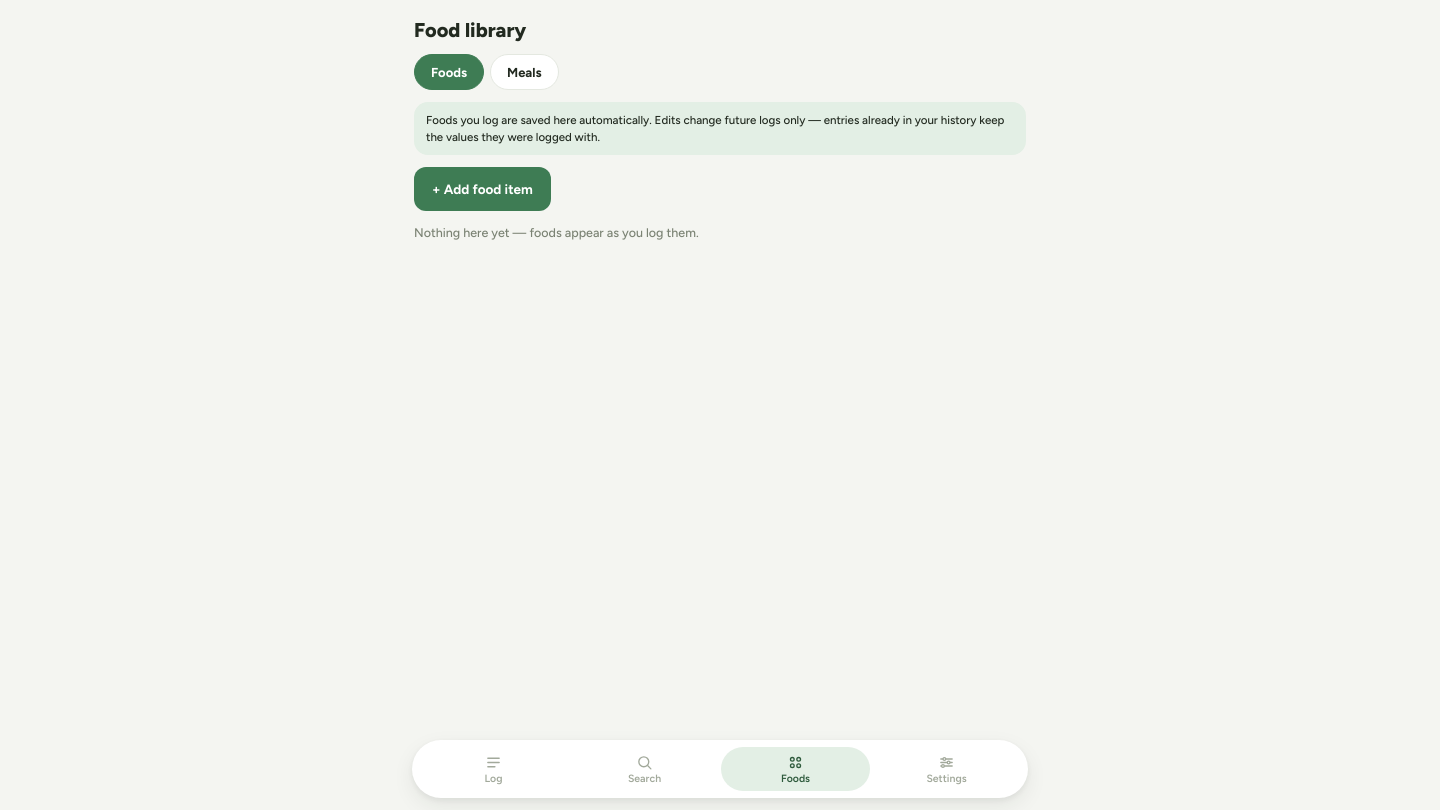
Test: Food library screen › rejects a duplicate name instead of creating a second food
Click the button "+ Add food item" at (482, 189), box left=414, top=167, right=551, bottom=211
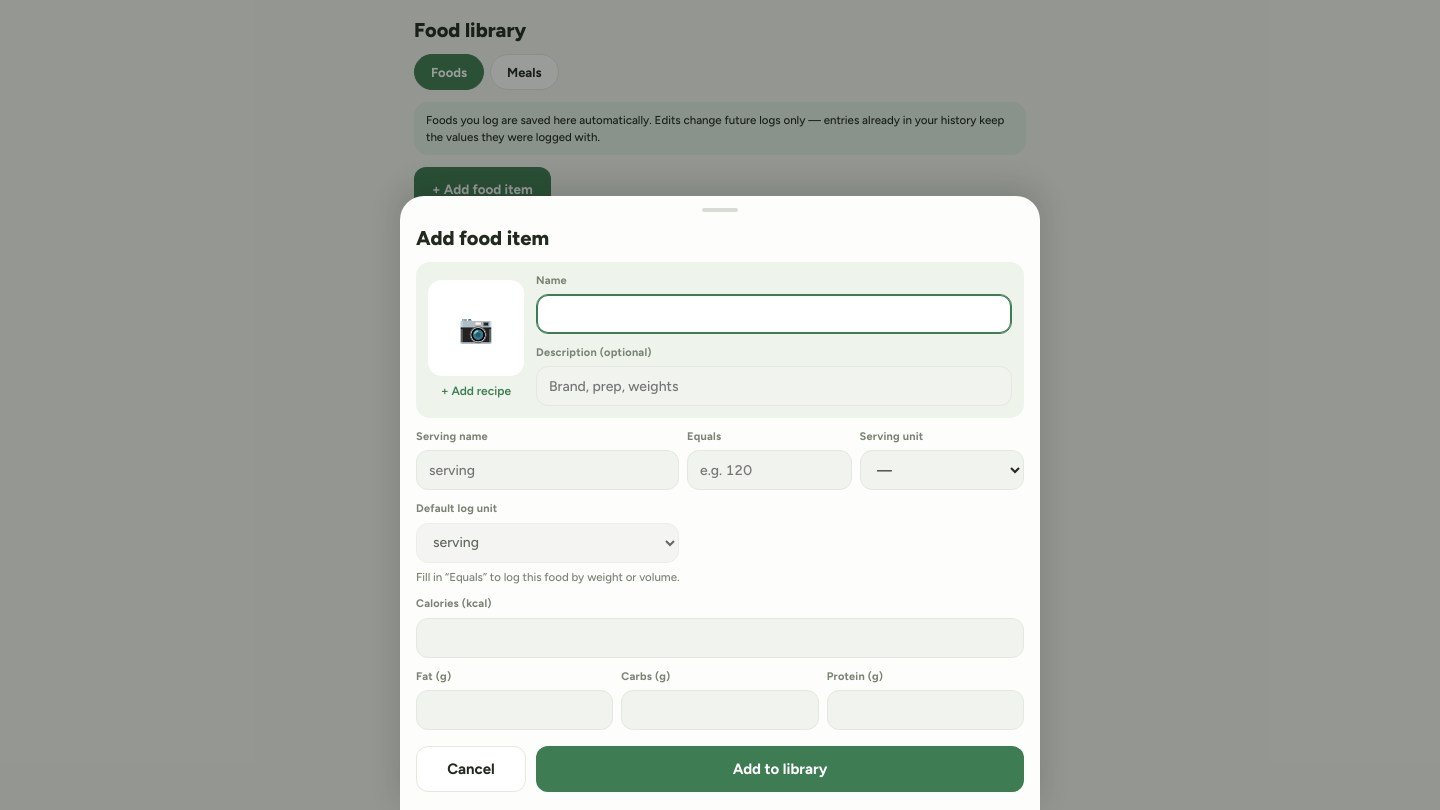
Type "Rice" into the field labelled "Name" at (774, 314), box left=536, top=294, right=1012, bottom=334
Type "200" into the field labelled "Calories (kcal)" at (720, 638), box left=416, top=618, right=1024, bottom=658
Click the button "Add to library" at (780, 769), box left=536, top=746, right=1024, bottom=792
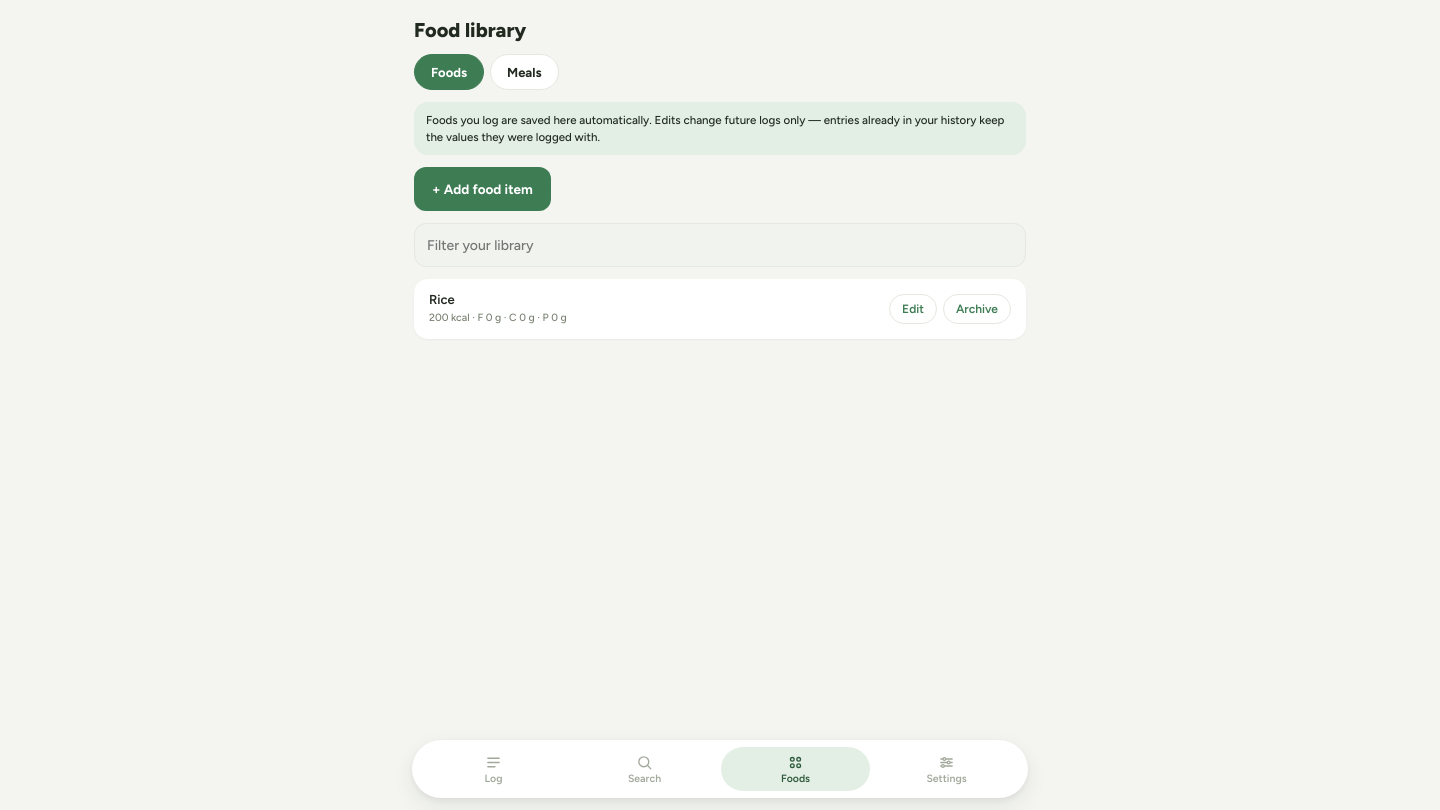
Click the button "+ Add food item" at (482, 189), box left=414, top=167, right=551, bottom=211
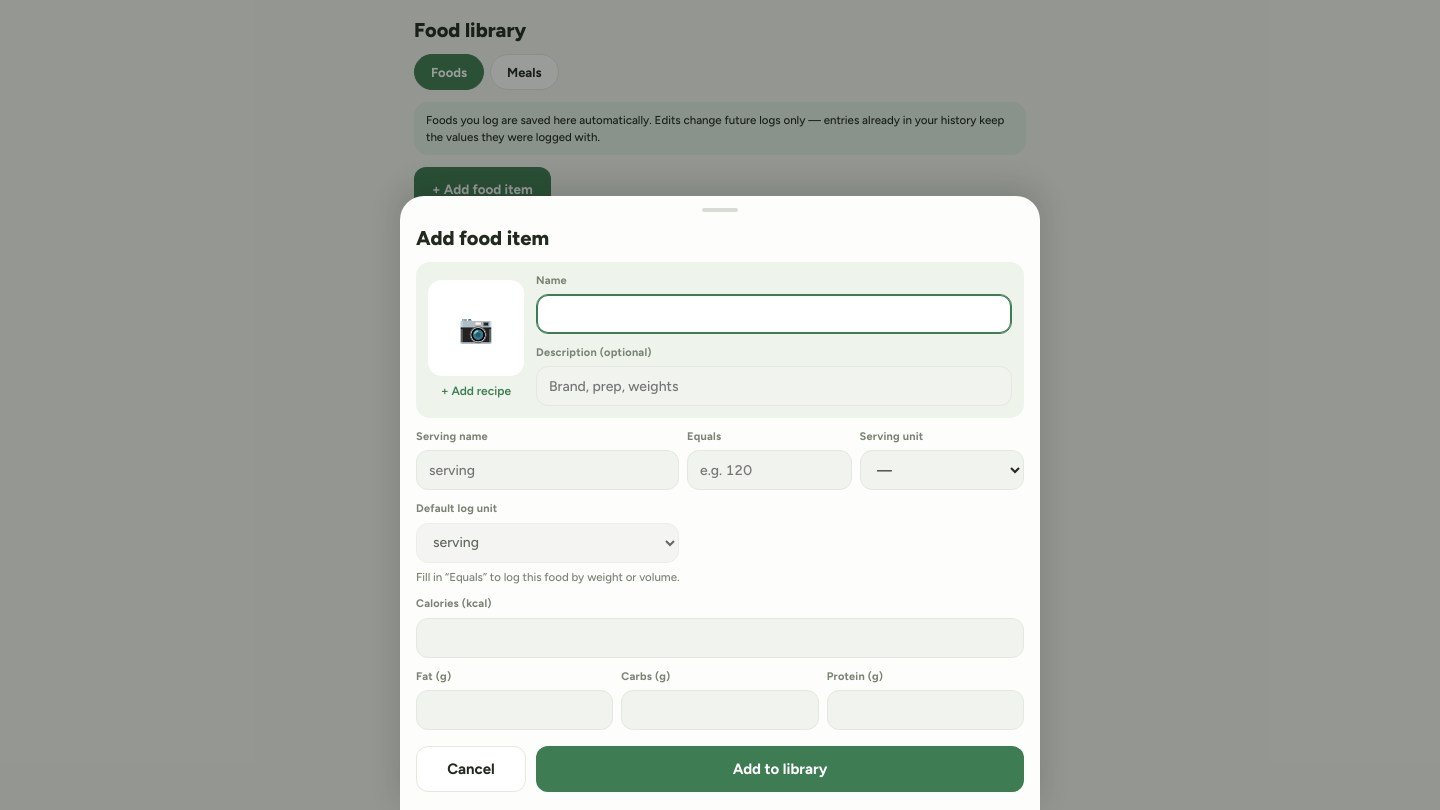
Type " rice " into the field labelled "Name" at (774, 314), box left=536, top=294, right=1012, bottom=334
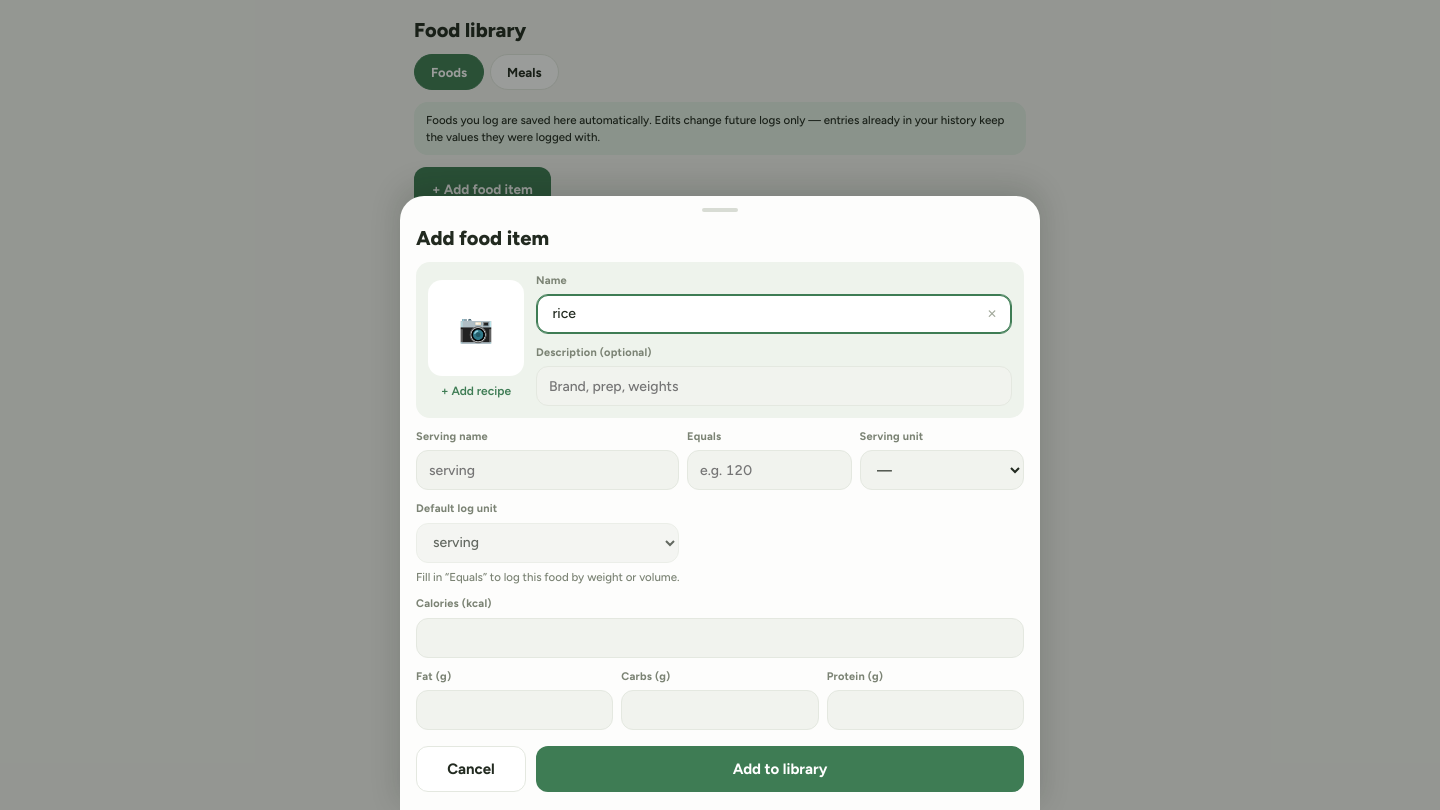
Type "210" into the field labelled "Calories (kcal)" at (720, 638), box left=416, top=618, right=1024, bottom=658
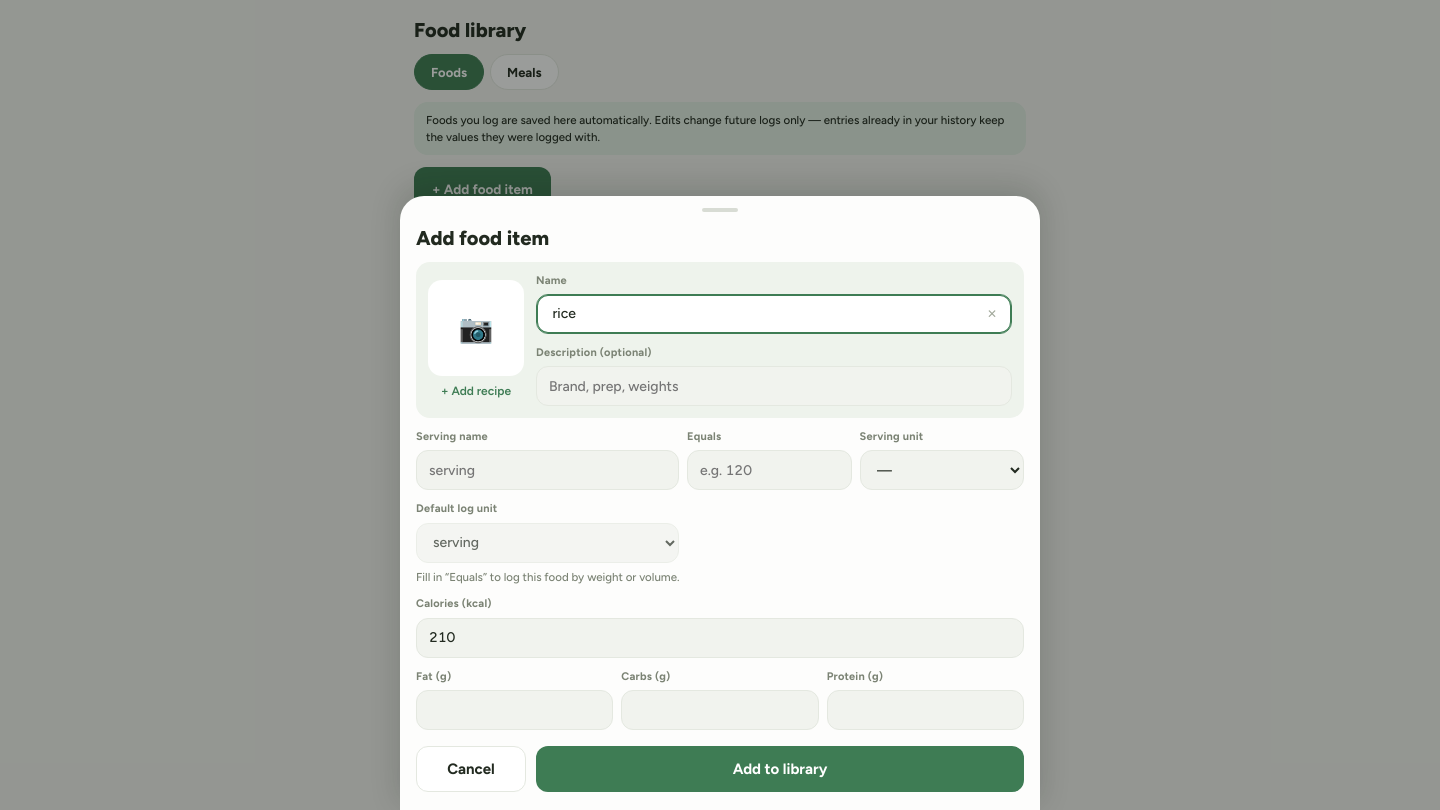
Click the button "Add to library" at (780, 769), box left=536, top=746, right=1024, bottom=792
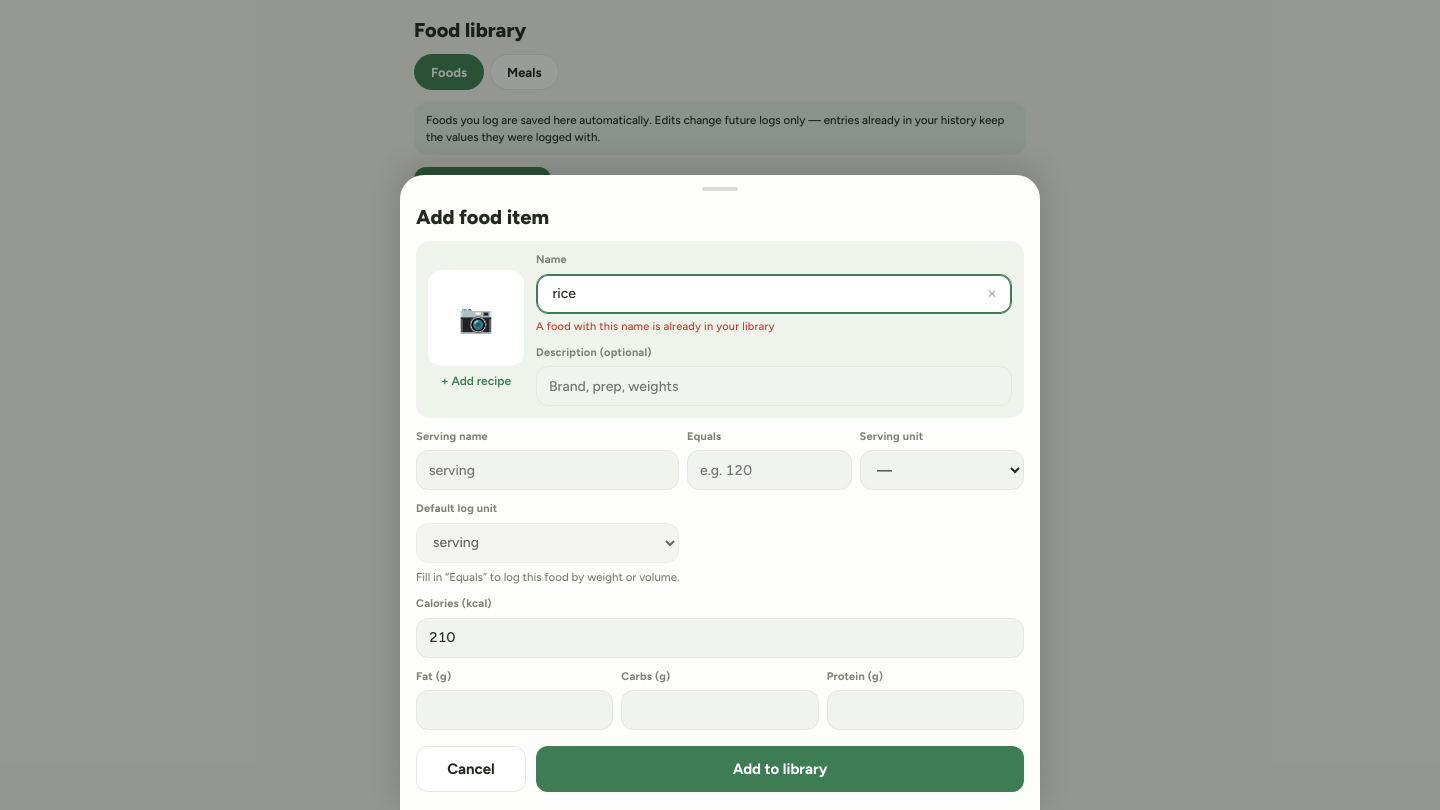
Expected: the text "A food with this name is already in your library" is shown, left=536, top=320, right=775, bottom=332
